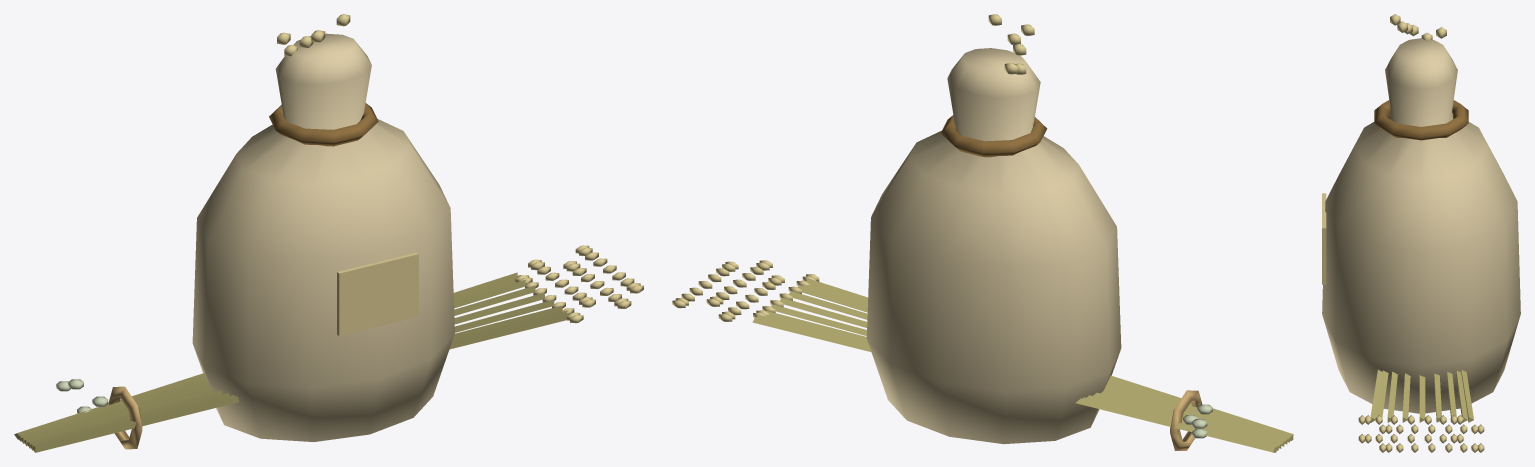
The model's file is Grain_Oat.fbx.
3 renders of one model, left to right at view 1: azimuth 30°, elevation 25°; view 2: azimuth 150°, elevation 25°; view 3: azimuth 270°, elevation 25°, orthographic. The views are drawn at different scales.
Parts seen in each view (by area): view 1: Grain_Oat__Stack, Grain_Oat; view 2: Grain_Oat__Stack, Grain_Oat; view 3: Grain_Oat__Stack, Grain_Oat.
Boxes of the visible parts, x1,y1,x2,y2 form: Grain_Oat__Stack: (192, 14, 454, 441); Grain_Oat: (14, 245, 643, 452); Grain_Oat__Stack: (866, 14, 1121, 444); Grain_Oat: (672, 260, 1293, 452); Grain_Oat__Stack: (1322, 14, 1520, 413); Grain_Oat: (1358, 369, 1484, 452).
Size of the model in its own units: 0.2995 by 0.188 by 0.096.
